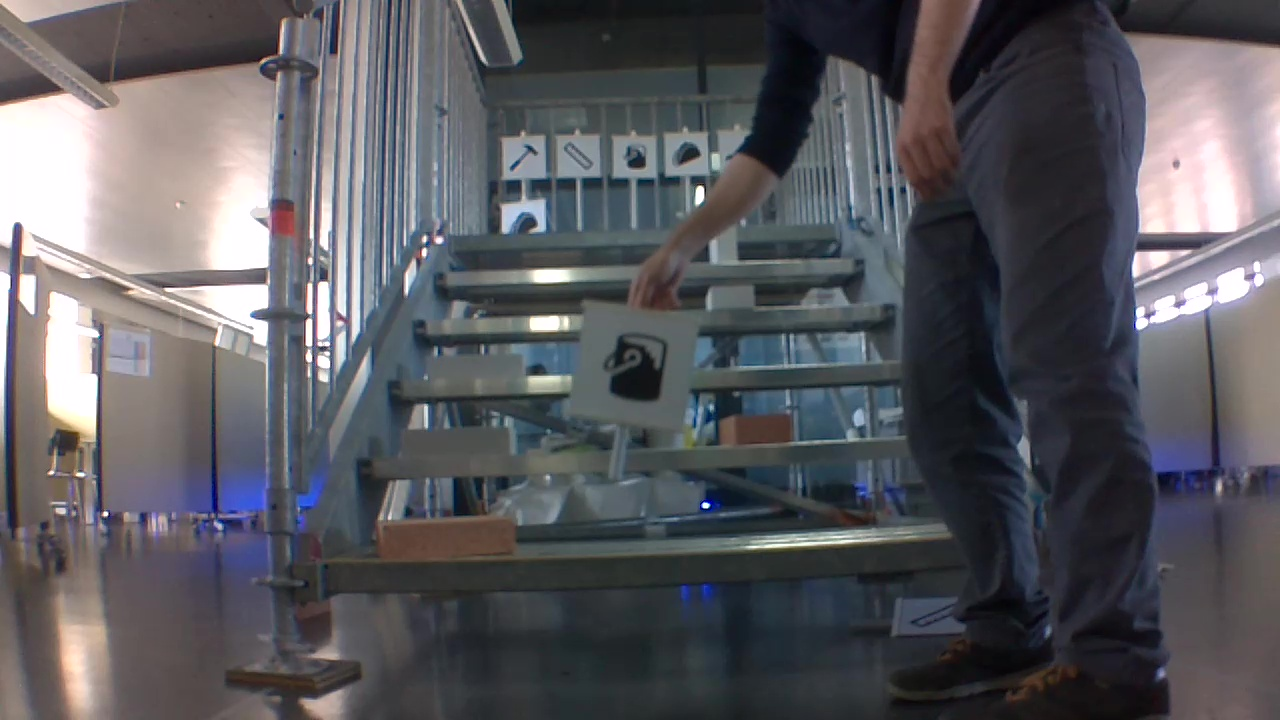brick: (373, 508, 520, 557), (385, 427, 520, 461), (428, 355, 525, 386), (719, 411, 796, 442), (705, 285, 756, 310), (712, 226, 739, 267)
bucket: (606, 338, 671, 405), (624, 141, 648, 170)
edge: (320, 524, 946, 600)
hammer: (507, 141, 539, 174)
ruler: (563, 136, 599, 172)
taco: (507, 208, 537, 237), (673, 140, 702, 168)
